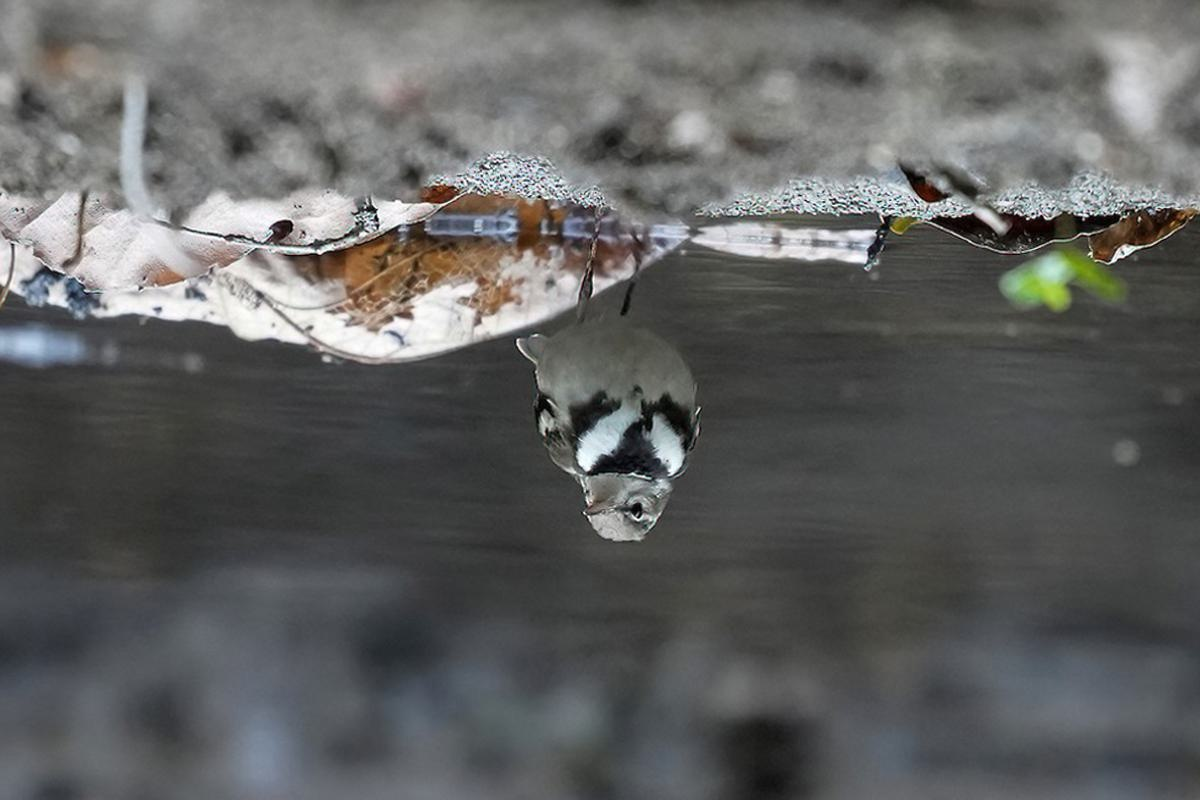wagtail: (510, 304, 704, 544)
